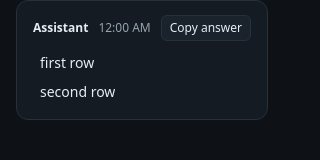
Test case: MessageItem tool tooltip interaction › keeps only one tooltip open across several rows
Later steps or results of the test are not shown.
Step 1. Click the button with class "tool-progress__row" showing "first row" → (142, 62), box [33,49,251,76]
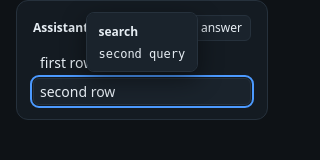
expect the element with class "tool-progress__tooltip" does not show "first query": met
expect the number of tooltips with class "tool-progress__tooltip" is 1: met, box [86,12,198,72]
expect the tooltip with class "tool-progress__tooltip" shows "second query": met, box [98,47,185,61]
